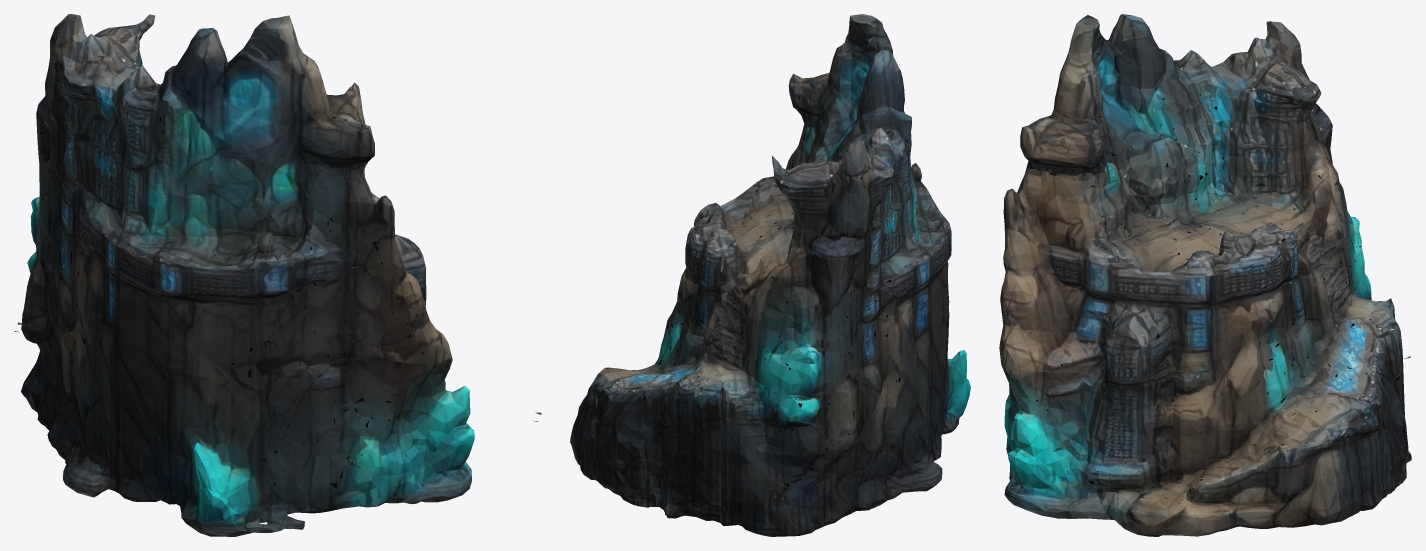
The model's file is cliff_1.glb.
3 views of the same model, side by side, from view 1: azimuth 30°, elevation 25°; view 2: azimuth 150°, elevation 25°; view 3: azimuth 270°, elevation 25° (orthographic). The views are drawn at different scales.
Visible parts, largest first — view 1: zzzz28; view 2: zzzz28; view 3: zzzz28.
Part boxes in pixels (x1,y1,x2,y2): zzzz28: [14, 14, 541, 536]; zzzz28: [570, 14, 970, 536]; zzzz28: [999, 14, 1411, 536].
Size of the model in its own units: 4.32 by 5.37 by 4.7.
1 material, 1 textured.
